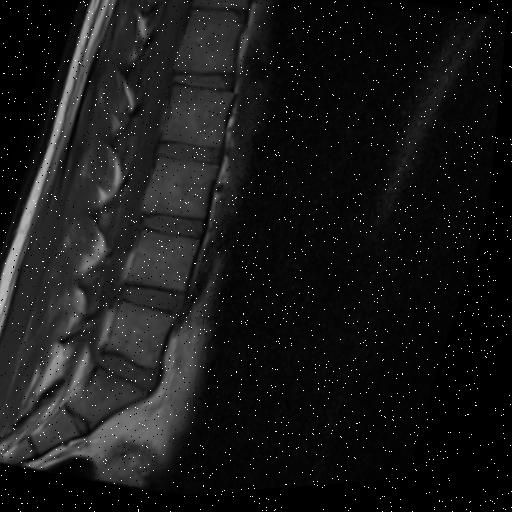L1: (174, 19, 243, 77)
L2: (165, 89, 235, 152)
L3: (146, 160, 221, 222)
L4: (134, 233, 204, 294)
L5: (113, 304, 183, 370)
S1: (74, 371, 155, 430)
